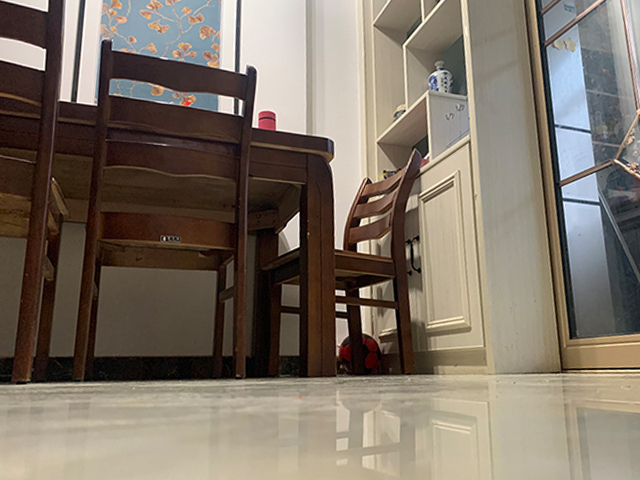cabinet: (363, 127, 532, 376)
stool: (70, 39, 259, 381), (262, 149, 422, 377), (1, 1, 69, 385)
